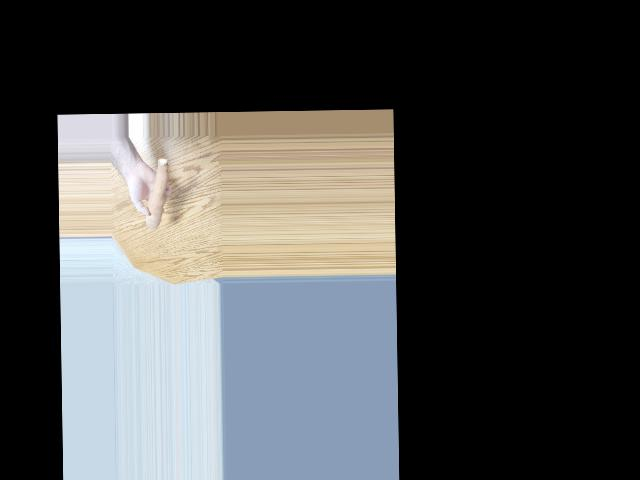sweet_potato: (147, 160, 169, 233)
